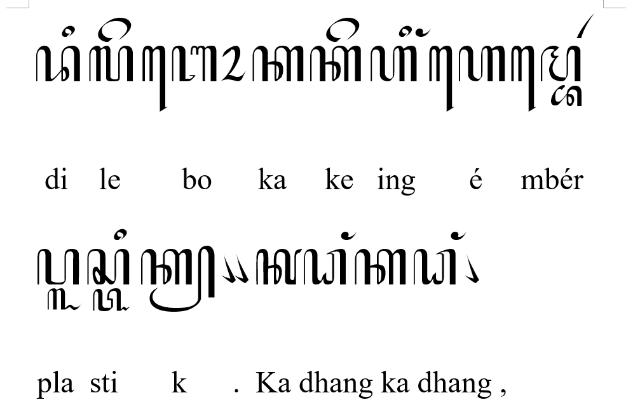-k: (139, 245, 215, 313)
K: (255, 248, 303, 286)
_b: (550, 84, 582, 108)
_l: (46, 288, 82, 310)
_r1: (576, 13, 594, 39)
_t: (92, 288, 130, 312)
b: (170, 44, 218, 82)
d: (35, 44, 81, 82)
dh: (413, 249, 457, 286), (304, 249, 346, 285)
e: (98, 16, 132, 42), (326, 17, 360, 43)
e1: (428, 44, 456, 112), (510, 45, 538, 113), (141, 45, 167, 113)
h: (370, 45, 418, 83), (458, 44, 506, 82)
i: (112, 227, 128, 240), (61, 25, 75, 39), (398, 25, 412, 38)
k: (308, 46, 362, 82), (354, 249, 406, 286), (252, 46, 304, 82)
kom: (464, 253, 480, 284), (220, 254, 236, 284), (235, 254, 249, 284)
l: (88, 45, 134, 83)
m: (540, 44, 582, 82)
ng: (414, 28, 432, 38), (450, 231, 468, 241), (341, 231, 357, 241)
o: (220, 44, 247, 82)
p: (36, 248, 80, 286)
s: (87, 249, 131, 286)
